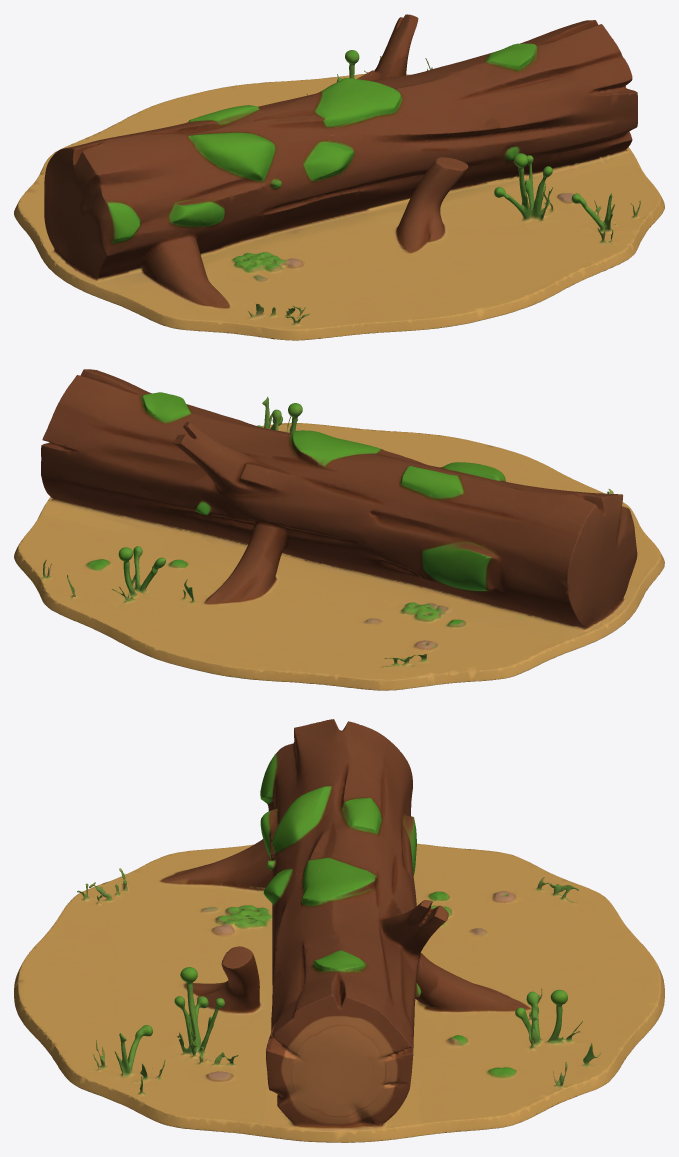
The model's file is mata_tronco.glb.
3 renders of one model, top to bottom at view 1: azimuth 30°, elevation 25°; view 2: azimuth 150°, elevation 25°; view 3: azimuth 270°, elevation 25°, orthographic. The views are drawn at different scales.
Bounding box in the file's own units: 1.9 × 0.454 × 1.75.
1 material, 1 textured.
